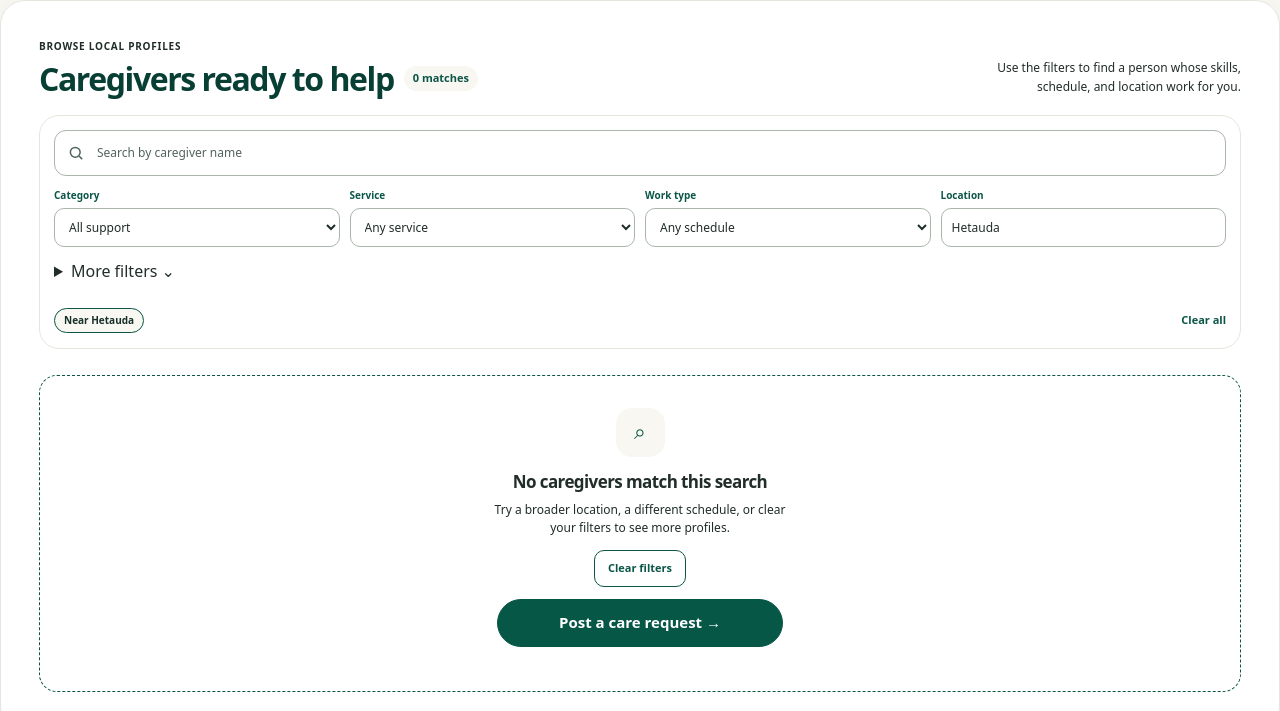
clearing an empty search keeps the filter form and expanded preferences mounted during loading
Expected: the heading "No caregivers match this search" is shown, [513,470,767,493]
Click the heading "More filters ⌄" at (123,271), box [71,260,175,282]
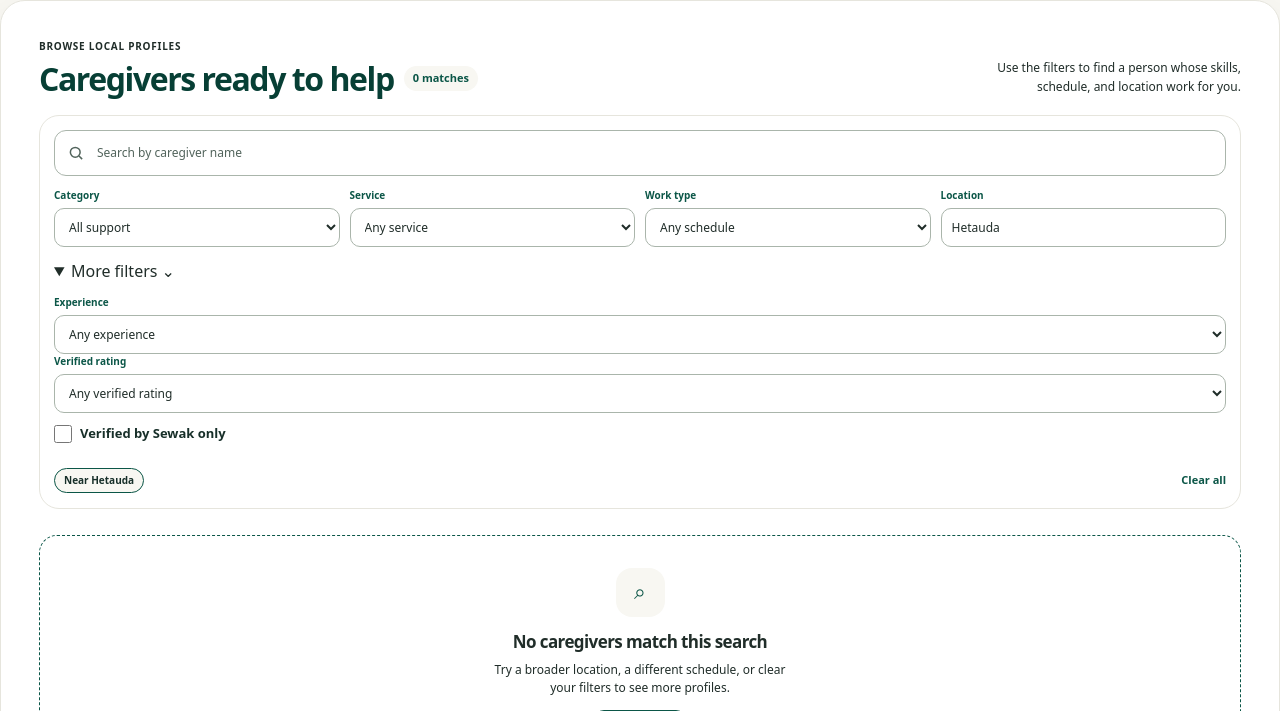
Click the button "Clear all" at (1204,480), box [1181,467,1226,494]
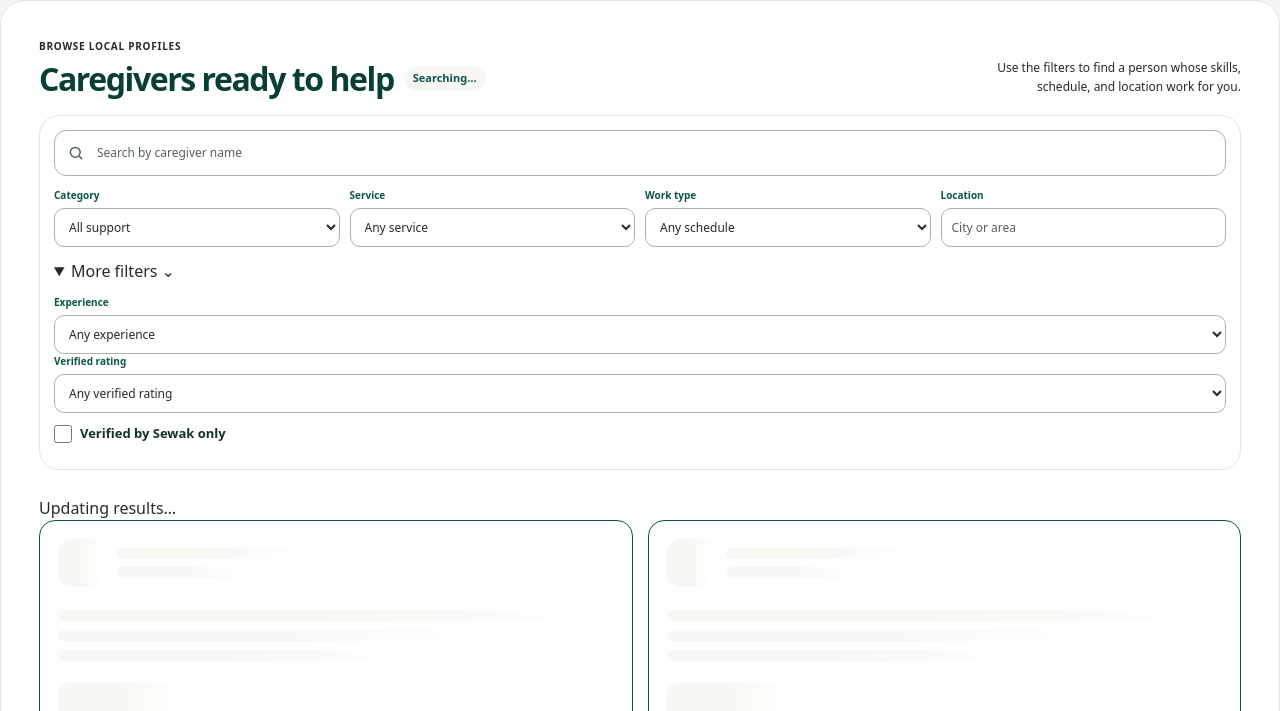
Expected: the text "Searching…" is shown, [404,66,486,91]
Expected: the heading "No caregivers match this search" is gone
